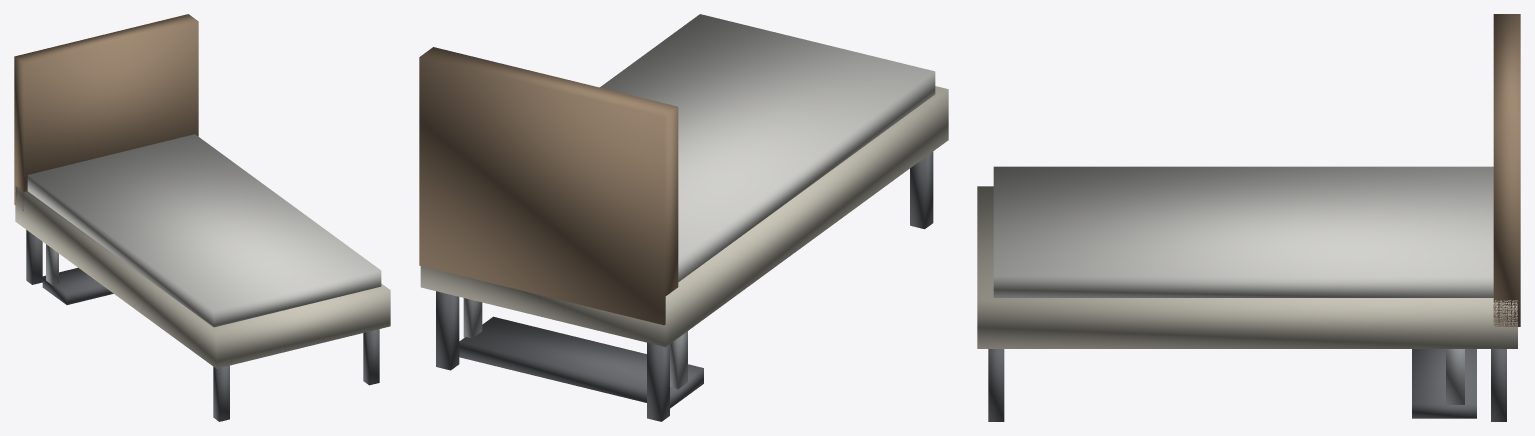
File: single_bed__reinforced.glb
3 views of the same model, side by side, from view 1: azimuth 30°, elevation 25°; view 2: azimuth 150°, elevation 25°; view 3: azimuth 270°, elevation 25° (orthographic). The views are drawn at different scales.
Parts seen in each view (by area): view 1: world; view 2: world; view 3: world.
Boxes of the visible parts, x1,y1,x2,y2 form: world: [14, 14, 390, 421]; world: [419, 14, 948, 421]; world: [977, 14, 1520, 421].
Size of the model in its own units: 1.03 by 1.25 by 2.07.
